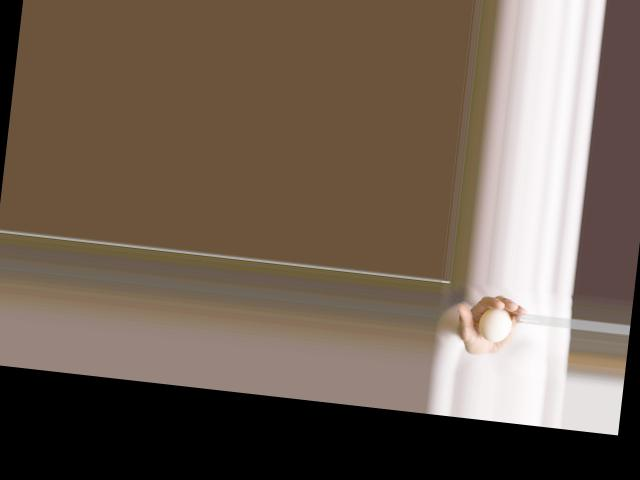egg: (477, 306, 513, 343)
